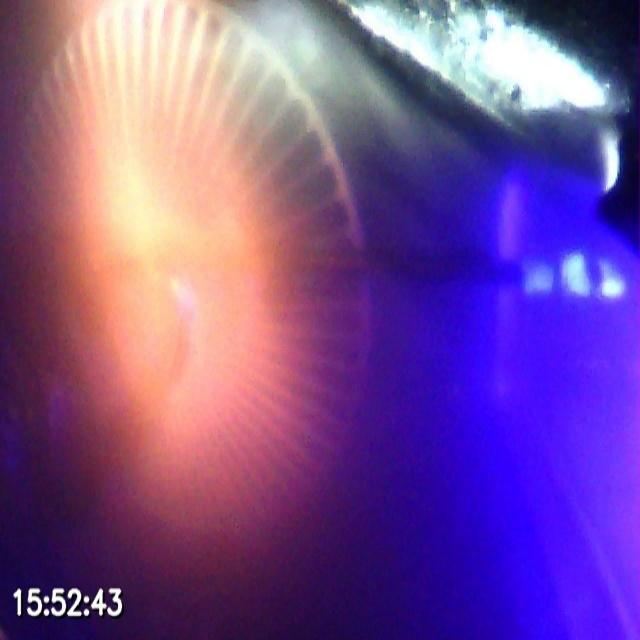white-dots: (521, 249, 629, 306)
